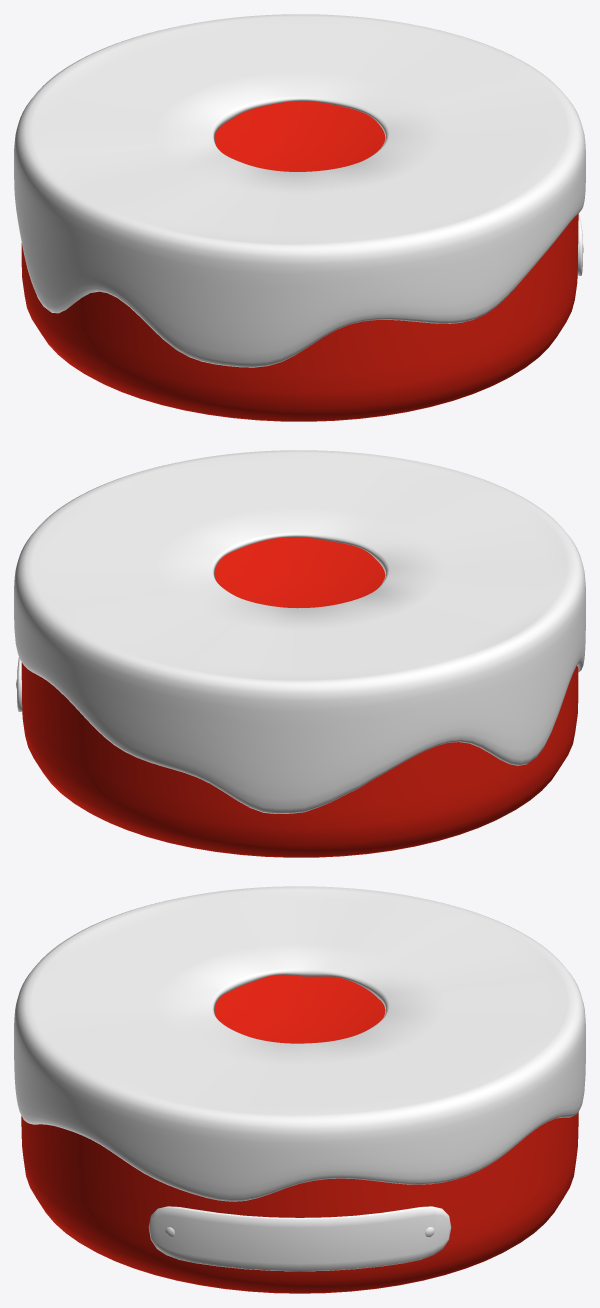
Rendered from bottom1.glb.
3 views of the same model, one above another, from view 1: azimuth 30°, elevation 25°; view 2: azimuth 150°, elevation 25°; view 3: azimuth 270°, elevation 25° (orthographic).
Parts seen in each view (by area): view 1: Cylinder.001, mainColor; view 2: Cylinder.001, mainColor; view 3: Cylinder.001, mainColor, nameTag.
Part boxes in pixels (box(x1,y1,x2,y2)): Cylinder.001: box(14, 14, 585, 367); mainColor: box(21, 101, 578, 421); Cylinder.001: box(14, 450, 585, 813); mainColor: box(21, 537, 578, 857); Cylinder.001: box(14, 886, 585, 1201); mainColor: box(21, 974, 578, 1293); nameTag: box(148, 1206, 451, 1271).
Bounding box in the file's own units: 10.64 × 3.74 × 10.64.
